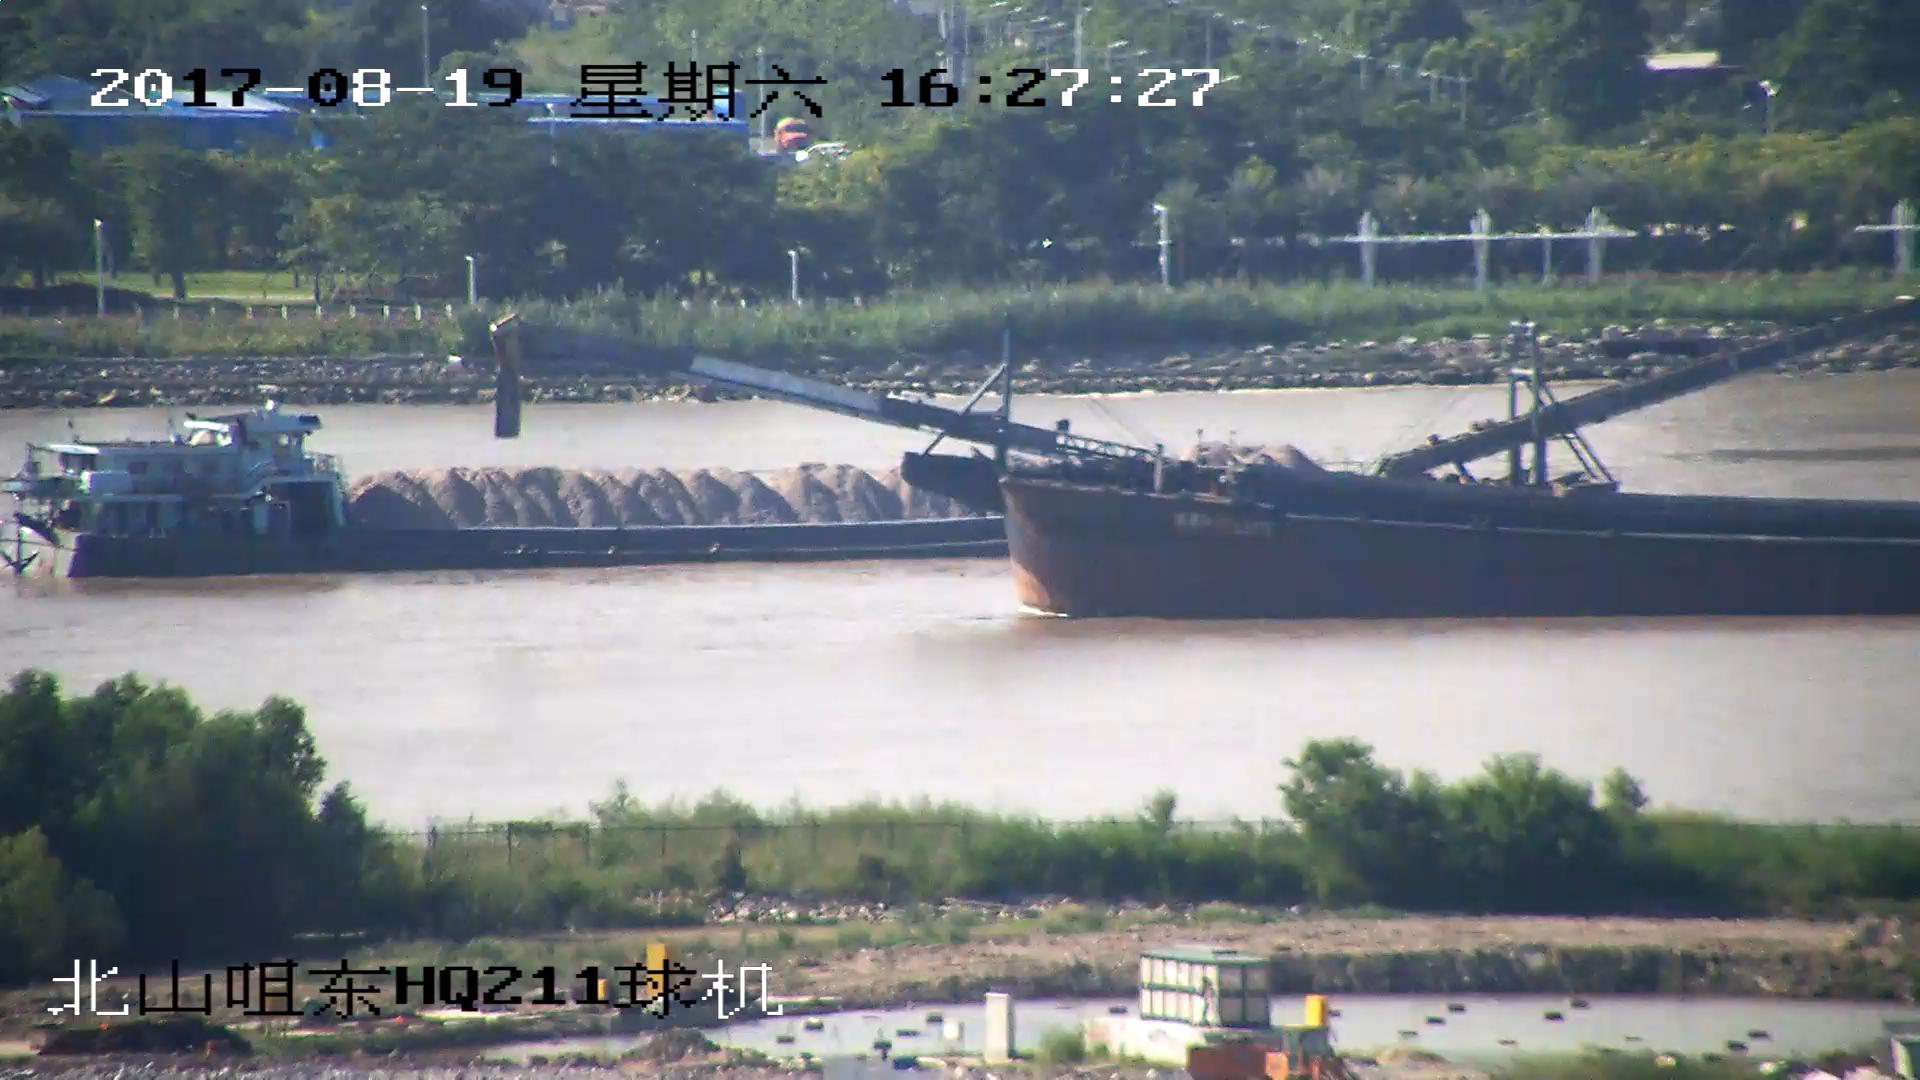bulk cargo carrier: (491, 325, 1919, 624)
ore carrier: (1, 298, 1908, 577)
